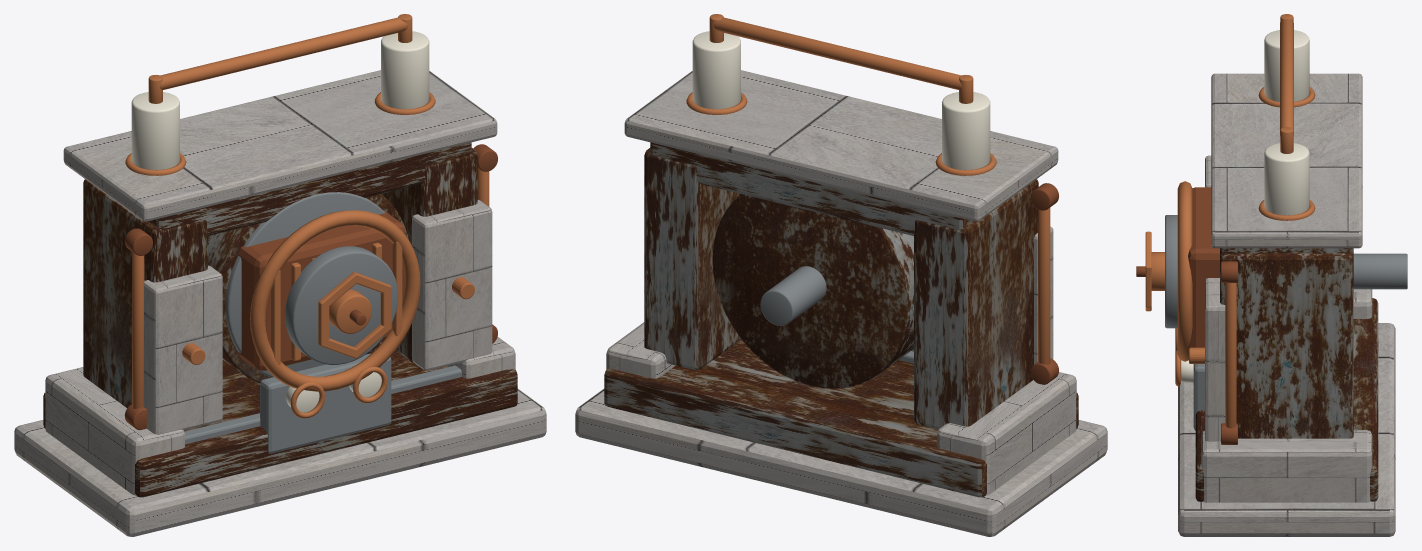
Rendered from manantial-generator.glb.
3 renders of one model, left to right at view 1: azimuth 30°, elevation 25°; view 2: azimuth 150°, elevation 25°; view 3: azimuth 270°, elevation 25°, orthographic. The views are drawn at different scales.
Parts seen in each view (by area): view 1: ManantialGenerator_StoneStatic, ManantialGenerator_IronStatic, ManantialGenerator_CopperStatic, ManantialGenerator_SteelStatic, ManantialGenerator_CeramicStatic, ManantialGenerator_CopperDarkStatic, ManantialGeneratorRotor, ManantialGeneratorRotorHub; view 2: ManantialGenerator_IronStatic, ManantialGenerator_StoneStatic, ManantialGenerator_CopperStatic, ManantialGenerator_CeramicStatic, ManantialGenerator_SteelStatic, ManantialGenerator_CopperDarkStatic; view 3: ManantialGenerator_StoneStatic, ManantialGenerator_IronStatic, ManantialGenerator_CopperStatic, ManantialGenerator_CeramicStatic, ManantialGenerator_CopperDarkStatic, ManantialGenerator_SteelStatic, ManantialGeneratorRotor, ManantialGeneratorRotorHub.
Boxes of the visible parts, bbox=[...] form: ManantialGenerator_StoneStatic: bbox=[14, 70, 546, 536]; ManantialGenerator_IronStatic: bbox=[43, 142, 517, 497]; ManantialGenerator_CopperStatic: bbox=[125, 14, 489, 418]; ManantialGenerator_SteelStatic: bbox=[184, 192, 461, 453]; ManantialGenerator_CeramicStatic: bbox=[131, 31, 429, 412]; ManantialGenerator_CopperDarkStatic: bbox=[124, 144, 497, 430]; ManantialGeneratorRotor: bbox=[285, 246, 398, 364]; ManantialGeneratorRotorHub: bbox=[329, 289, 371, 333]; ManantialGenerator_IronStatic: bbox=[604, 142, 1078, 497]; ManantialGenerator_StoneStatic: bbox=[575, 70, 1107, 536]; ManantialGenerator_CopperStatic: bbox=[686, 14, 1050, 364]; ManantialGenerator_CeramicStatic: bbox=[692, 31, 990, 169]; ManantialGenerator_SteelStatic: bbox=[760, 266, 913, 363]; ManantialGenerator_CopperDarkStatic: bbox=[1031, 183, 1058, 384]; ManantialGenerator_StoneStatic: bbox=[1178, 73, 1395, 536]; ManantialGenerator_IronStatic: bbox=[1195, 248, 1378, 501]; ManantialGenerator_CopperStatic: bbox=[1175, 14, 1315, 428]; ManantialGenerator_CeramicStatic: bbox=[1181, 30, 1309, 382]; ManantialGenerator_CopperDarkStatic: bbox=[1188, 187, 1237, 444]; ManantialGenerator_SteelStatic: bbox=[1193, 248, 1407, 430]; ManantialGeneratorRotor: bbox=[1165, 215, 1177, 328]; ManantialGeneratorRotorHub: bbox=[1151, 252, 1164, 290].
Size of the model in its own units: 5.8 by 5.27 by 3.5.
6 materials, 2 textured.
